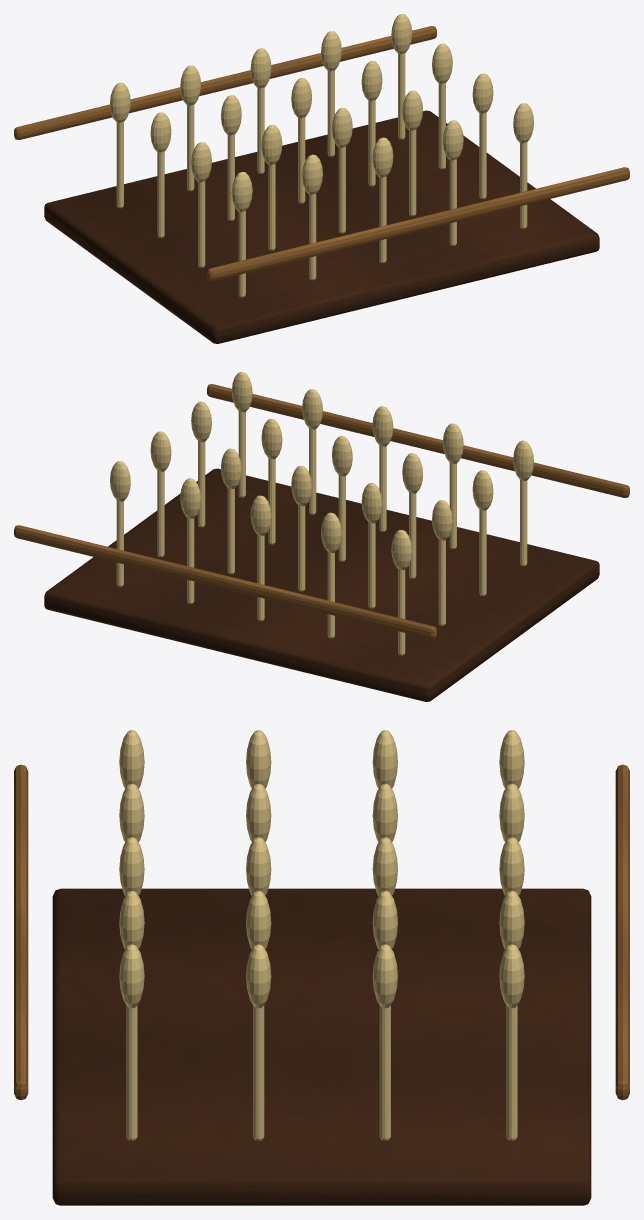
Rendered from farm.glb.
3 renders of one model, top to bottom at view 1: azimuth 30°, elevation 25°; view 2: azimuth 150°, elevation 25°; view 3: azimuth 270°, elevation 25°, orthographic. The views are drawn at different scales.
Visible parts, largest first — view 1: field, fence, fence.001, ear.015, ear.002, ear.006, ear.007, ear.008, ear.011, ear.016, ear.017, stalk.017 (+31 smaller); view 2: field, fence.001, fence, ear.012, ear.001, ear.004, ear.005, ear.008, ear.011, ear.018, ear.019, stalk.018 (+31 smaller); view 3: field, fence, fence.001, stalk.016, stalk.017, stalk.018, stalk.019, ear.016, ear.019, ear.017, ear.018, ear.004 (+15 smaller).
Part boxes in pixels (left/top/right/bottom): field: left=44, top=110, right=599, bottom=343; fence: left=207, top=167, right=629, bottom=281; fence.001: left=14, top=26, right=436, bottom=139; ear.015: left=321, top=31, right=341, bottom=71; ear.002: left=150, top=112, right=171, bottom=152; ear.006: left=221, top=95, right=241, bottom=135; ear.007: left=180, top=65, right=201, bottom=105; ear.008: left=372, top=137, right=393, bottom=177; ear.011: left=250, top=48, right=271, bottom=88; ear.016: left=513, top=103, right=533, bottom=143; ear.017: left=472, top=73, right=493, bottom=113; stalk.017: left=479, top=112, right=486, bottom=199; field: left=44, top=468, right=599, bottom=701; fence.001: left=14, top=525, right=436, bottom=639; fence: left=207, top=384, right=629, bottom=497; ear.012: left=302, top=389, right=322, bottom=429; ear.001: left=472, top=470, right=493, bottom=510; ear.004: left=442, top=423, right=463, bottom=463; ear.005: left=402, top=453, right=422, bottom=493; ear.008: left=372, top=406, right=393, bottom=446; ear.011: left=250, top=495, right=271, bottom=535; ear.018: left=150, top=431, right=171, bottom=471; ear.019: left=110, top=461, right=130, bottom=501; stalk.018: left=157, top=470, right=164, bottom=557; field: left=52, top=888, right=591, bottom=1205; fence: left=14, top=764, right=28, bottom=1100; fence.001: left=615, top=764, right=629, bottom=1100; stalk.016: left=126, top=1005, right=137, bottom=1140; stalk.017: left=253, top=1005, right=264, bottom=1140; stalk.018: left=379, top=1005, right=390, bottom=1140; stalk.019: left=506, top=1005, right=517, bottom=1140; ear.016: left=119, top=944, right=144, bottom=1008; ear.019: left=499, top=944, right=524, bottom=1008; ear.017: left=246, top=944, right=271, bottom=1008; ear.018: left=372, top=944, right=397, bottom=1008; ear.004: left=119, top=783, right=144, bottom=842.
Bounding box in the file's own units: 2.4 × 0.78 × 1.94.
Materials: 3 (2 with a texture image).
